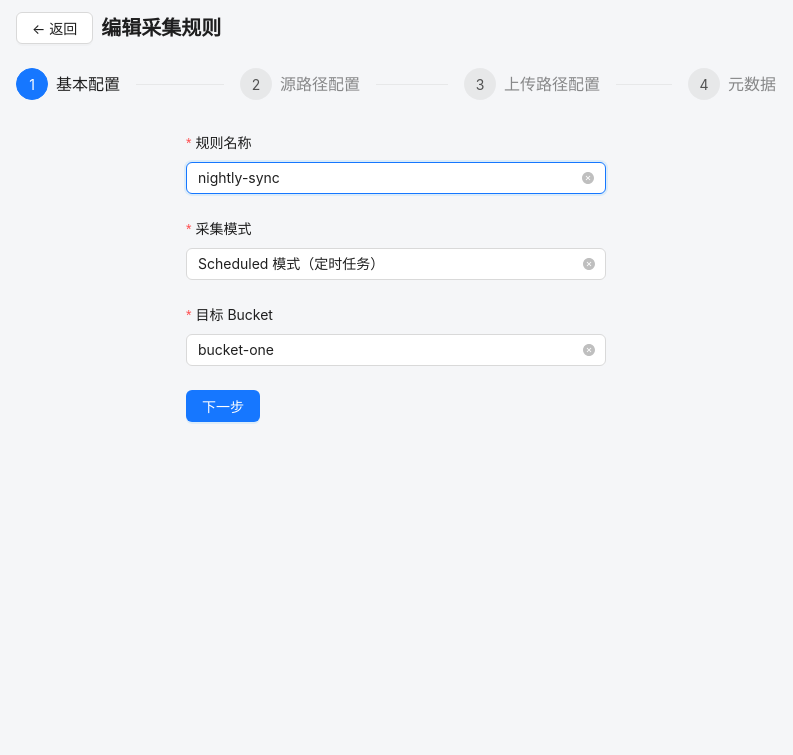
Scenario: RuleForm: contract warnings are rendered after a successful save (IC-BUG-50 / review E1) › renders the CP warnings block and stays on the form when update returns warnings
Check: the heading "编辑采集规则" is shown, box left=101, top=14, right=221, bottom=42
Step 1. Click the button "下一步" → point(223, 406), box left=186, top=390, right=260, bottom=422
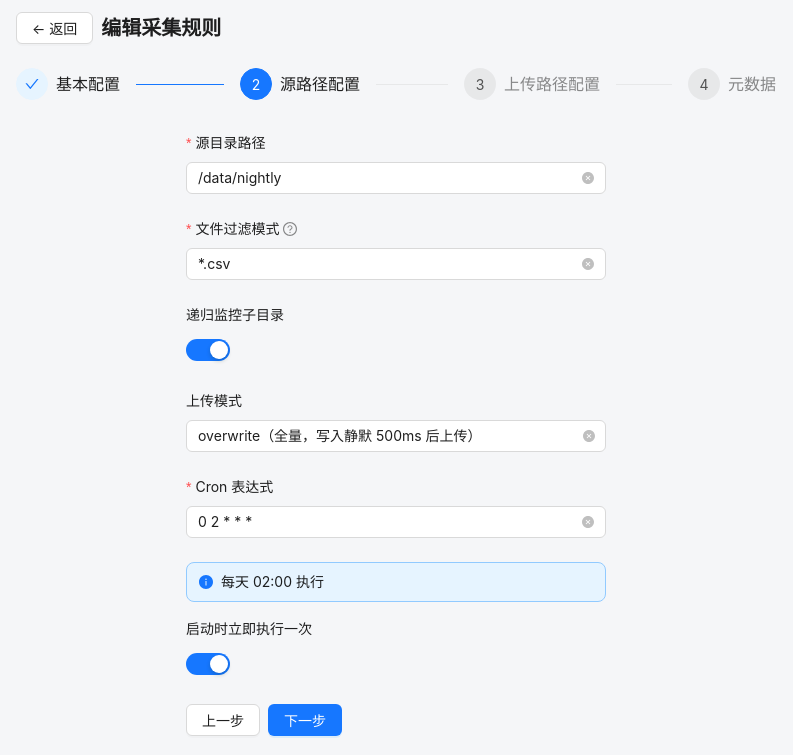
Check: the text "源路径配置" is shown, box left=280, top=68, right=376, bottom=100
Step 2. Click the button "下一步" → point(305, 720), box left=268, top=704, right=342, bottom=736
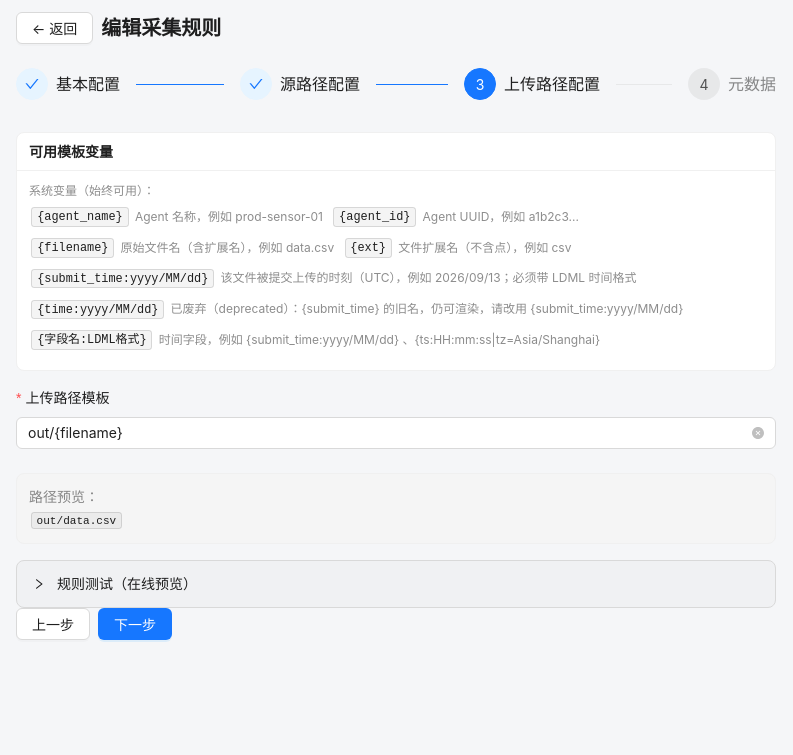
Check: the text "上传路径配置" is shown, box left=504, top=68, right=616, bottom=100
Step 3. Click the button "下一步" → point(135, 624), box left=98, top=608, right=172, bottom=640
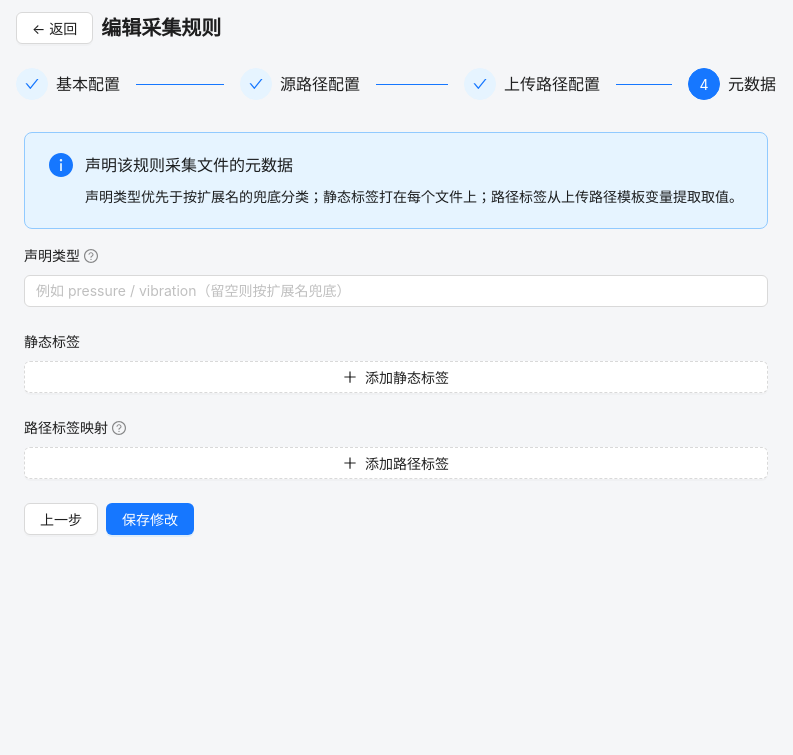
Check: the text "元数据" is shown, box left=728, top=68, right=776, bottom=100
Step 4. Click the button "保存修改" → point(150, 519), box left=106, top=503, right=194, bottom=535
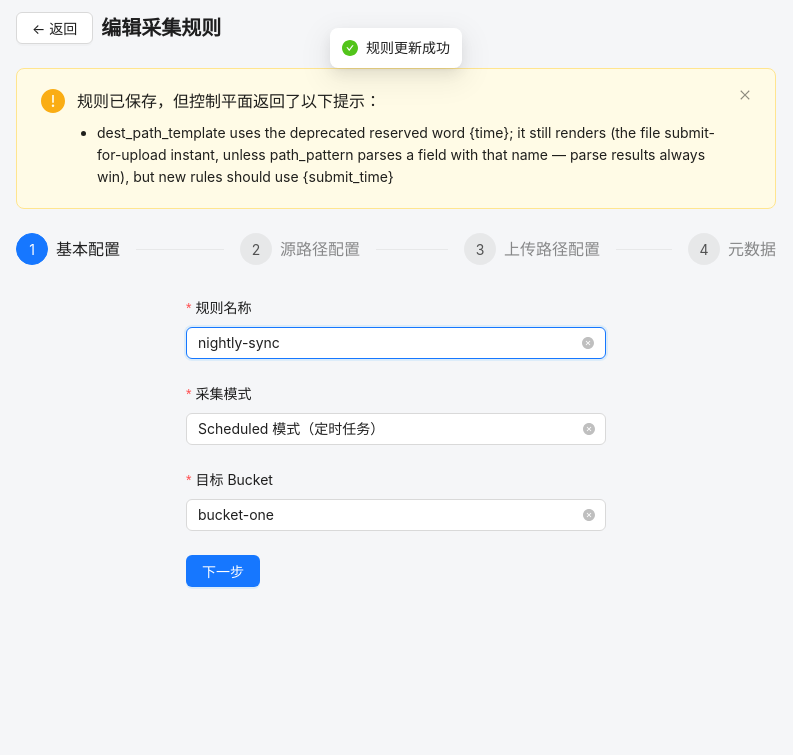
Check: the heading "编辑采集规则" is shown, box left=101, top=14, right=221, bottom=42
Check: the list item "dest_path_template uses the deprecated reserved word" is shown, box left=97, top=124, right=715, bottom=185
